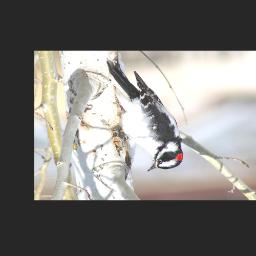Woodpecker: (105, 58, 182, 173)
